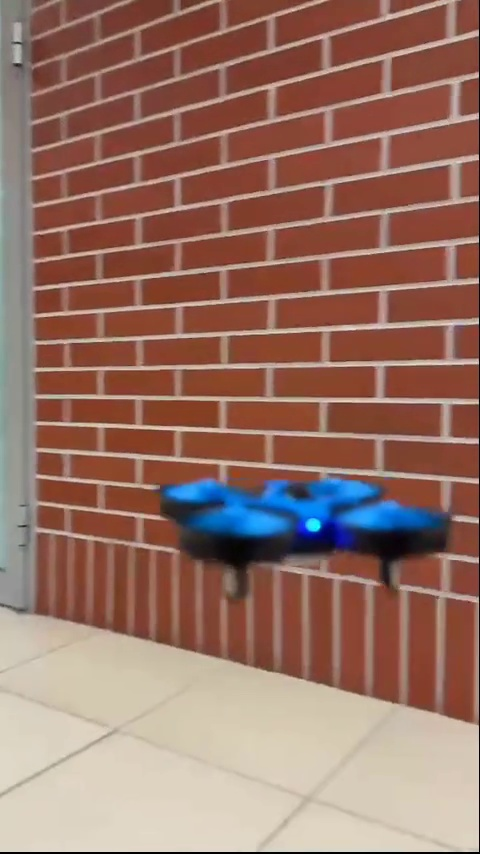drone: (162, 475, 448, 596)
